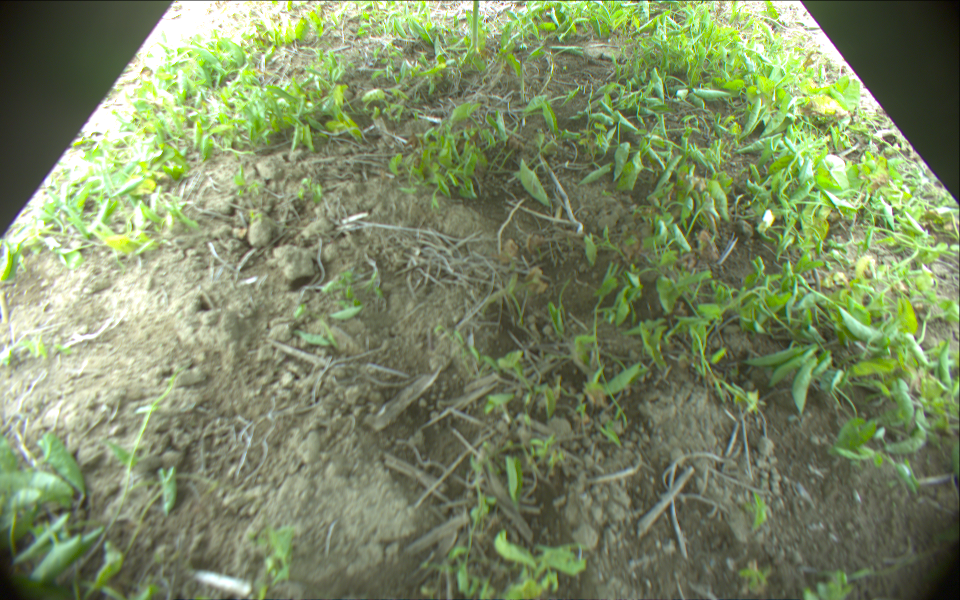aspa: (471, 1, 479, 55)
